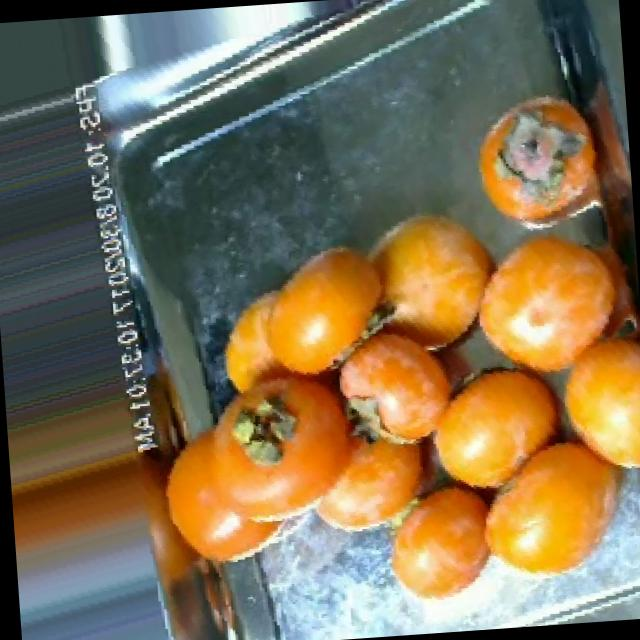Fruit: (341, 186, 527, 378), (458, 72, 624, 228), (320, 310, 483, 460), (363, 469, 522, 621)
